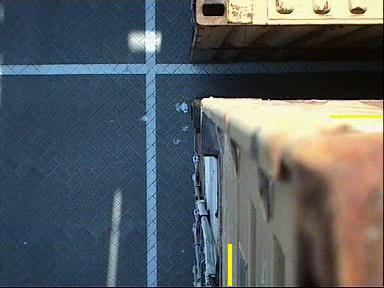groundmarker_2: (100, 25, 176, 70), (99, 143, 175, 188)
